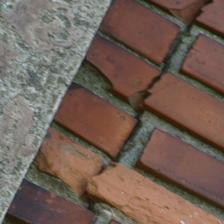Crack: (43, 14, 145, 195)
